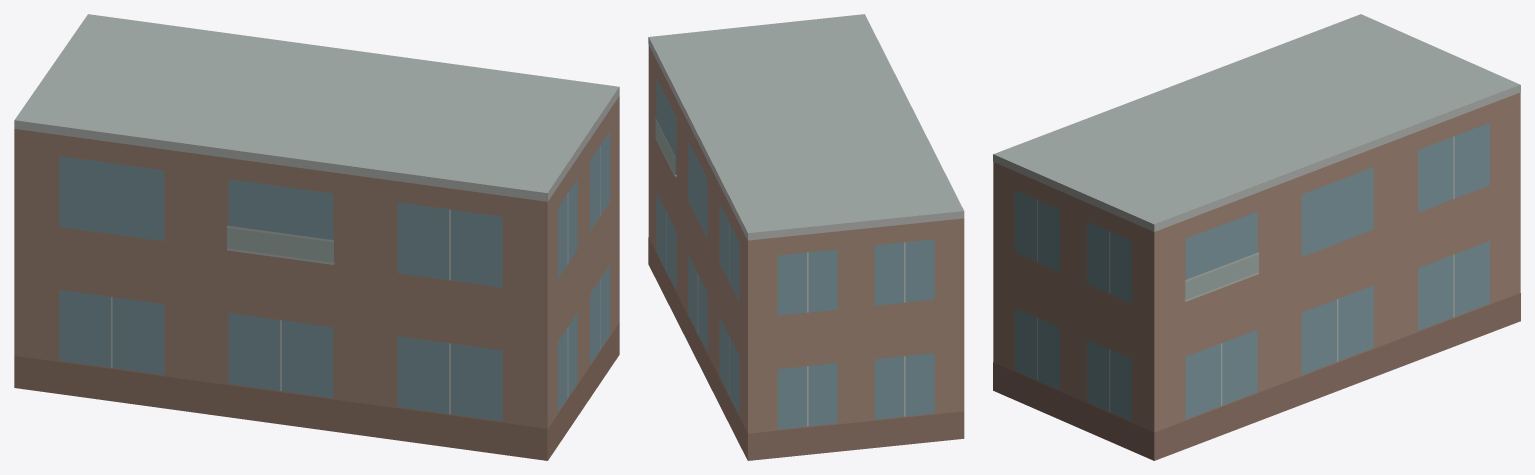
The model's file is survey-upis-32619260.glb.
3 renders of one model, left to right at view 1: azimuth 30°, elevation 25°; view 2: azimuth 150°, elevation 25°; view 3: azimuth 270°, elevation 25°, orthographic. The views are drawn at different scales.
Parts seen in each view (by area): view 1: survey-upis-32619260.tmp; view 2: survey-upis-32619260.tmp; view 3: survey-upis-32619260.tmp.
Boxes of the visible parts, x1,y1,x2,y2 form: survey-upis-32619260.tmp: [14, 14, 619, 460]; survey-upis-32619260.tmp: [648, 14, 964, 460]; survey-upis-32619260.tmp: [993, 14, 1520, 460].
Bounding box in the file's own units: 14.52 × 7.6 × 15.38.
